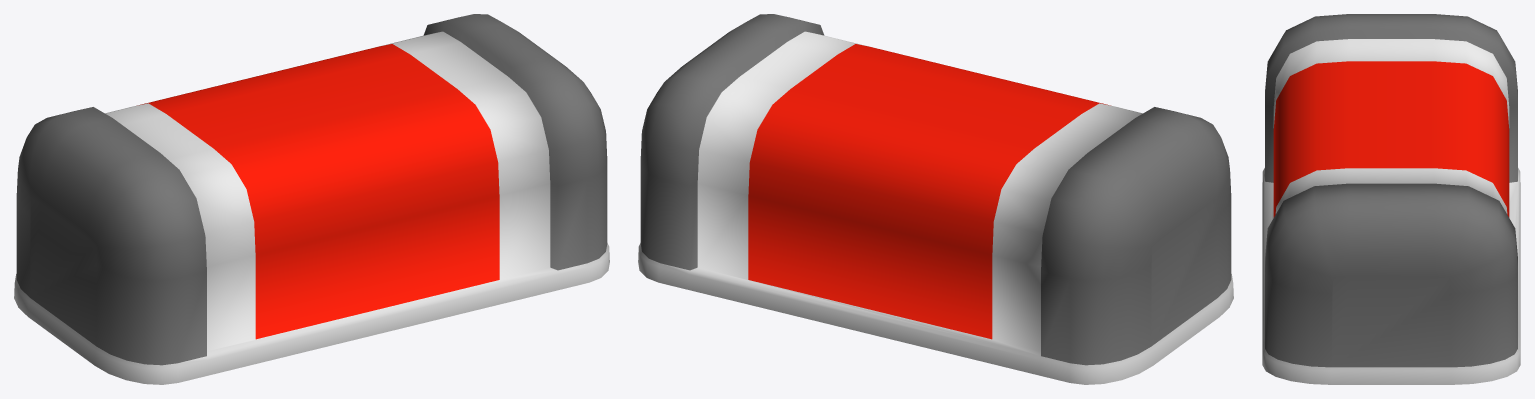
File: KeysWhiteNote.fbx
3 renders of one model, left to right at view 1: azimuth 30°, elevation 25°; view 2: azimuth 150°, elevation 25°; view 3: azimuth 270°, elevation 25°, orthographic. The views are drawn at different scales.
Visible parts, largest first — view 1: Cube.098; view 2: Cube.098; view 3: Cube.098.
Boxes of the visible parts, bbox=[...] form: Cube.098: bbox=[14, 14, 609, 384]; Cube.098: bbox=[638, 14, 1233, 384]; Cube.098: bbox=[1262, 14, 1520, 384].
Bounding box in the file's own units: 30.97 × 11.08 × 15.39.
